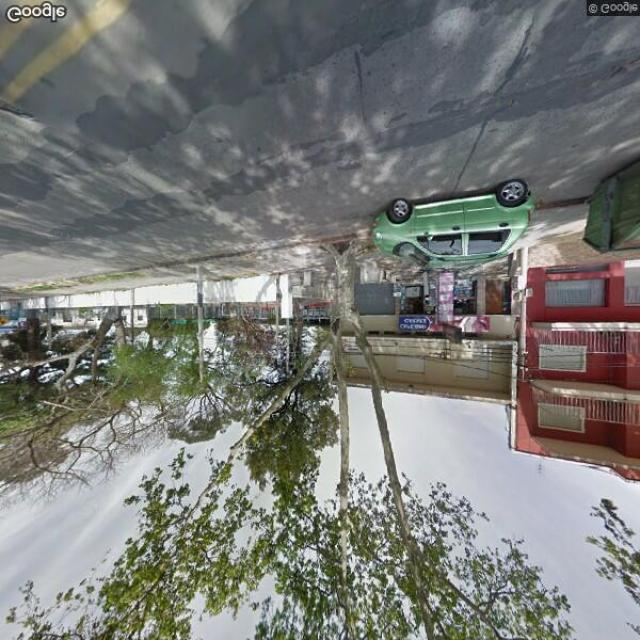garbage container: (576, 144, 640, 264)
